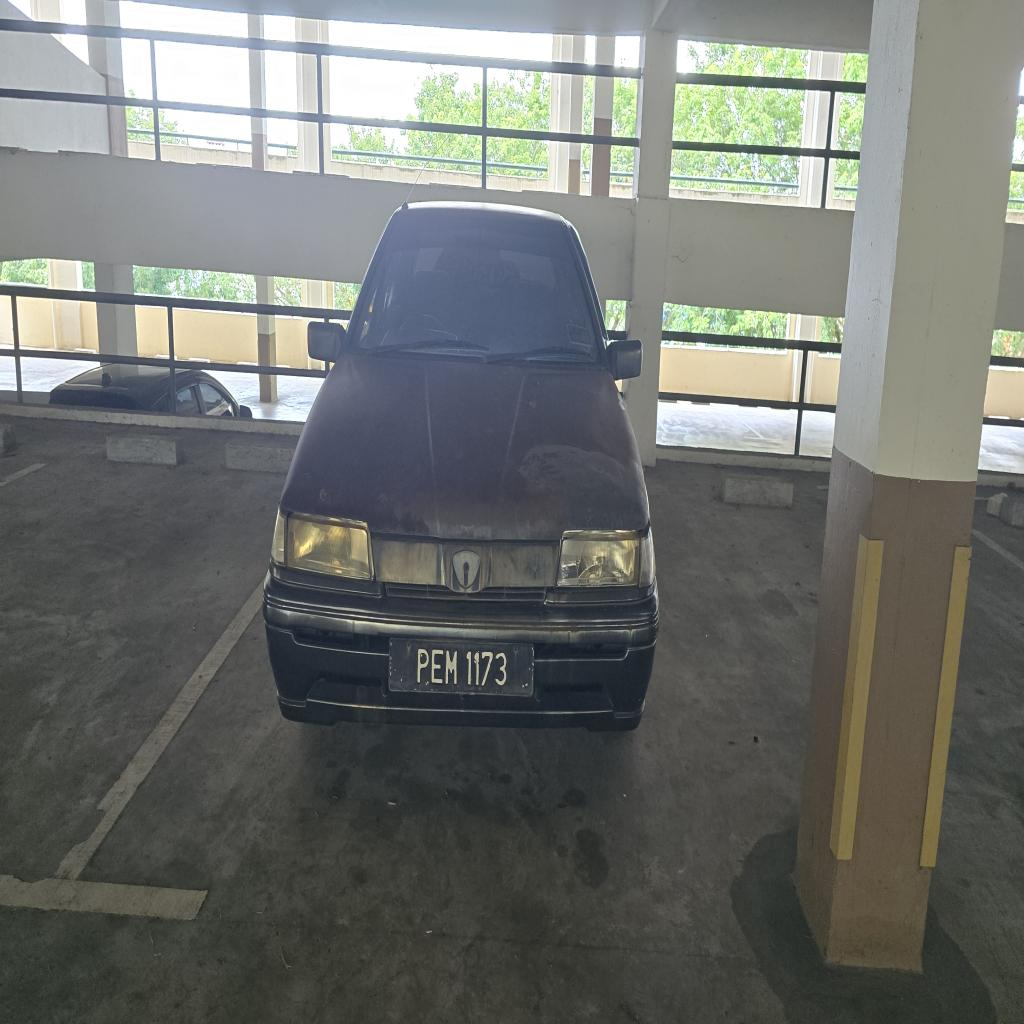car: (264, 203, 657, 729)
car plate: (389, 640, 533, 696)
